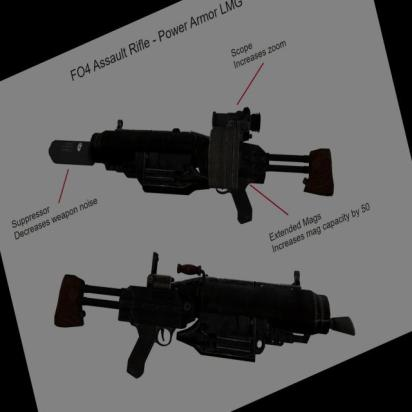Gun: (52, 251, 358, 378)
